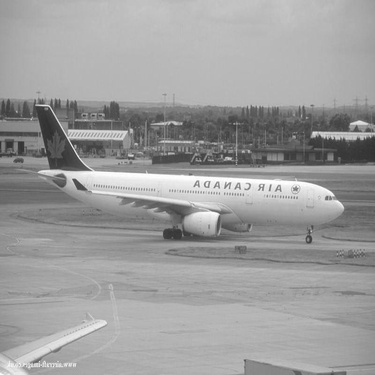airplane: (19, 96, 352, 256)
